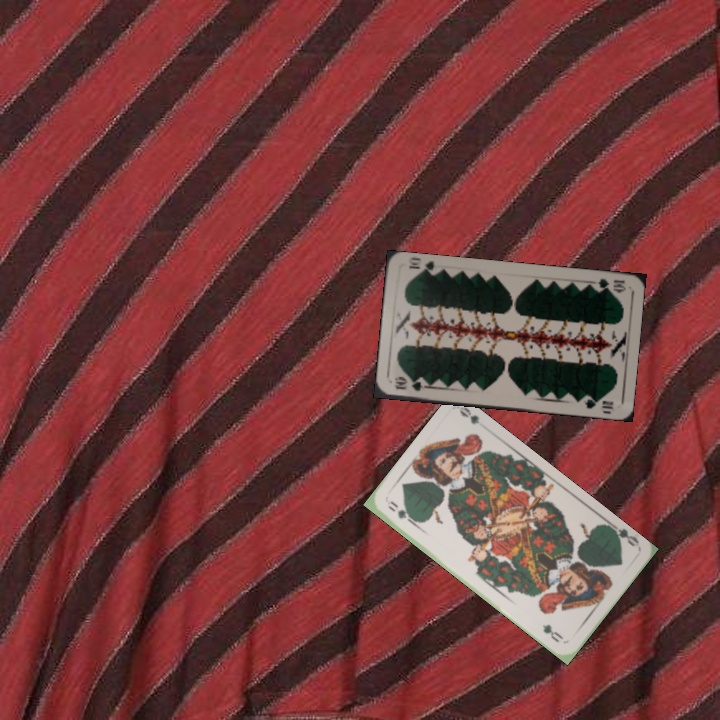G10: (588, 274, 628, 295), (390, 375, 430, 393)
GO: (605, 519, 642, 549), (384, 501, 419, 528)
